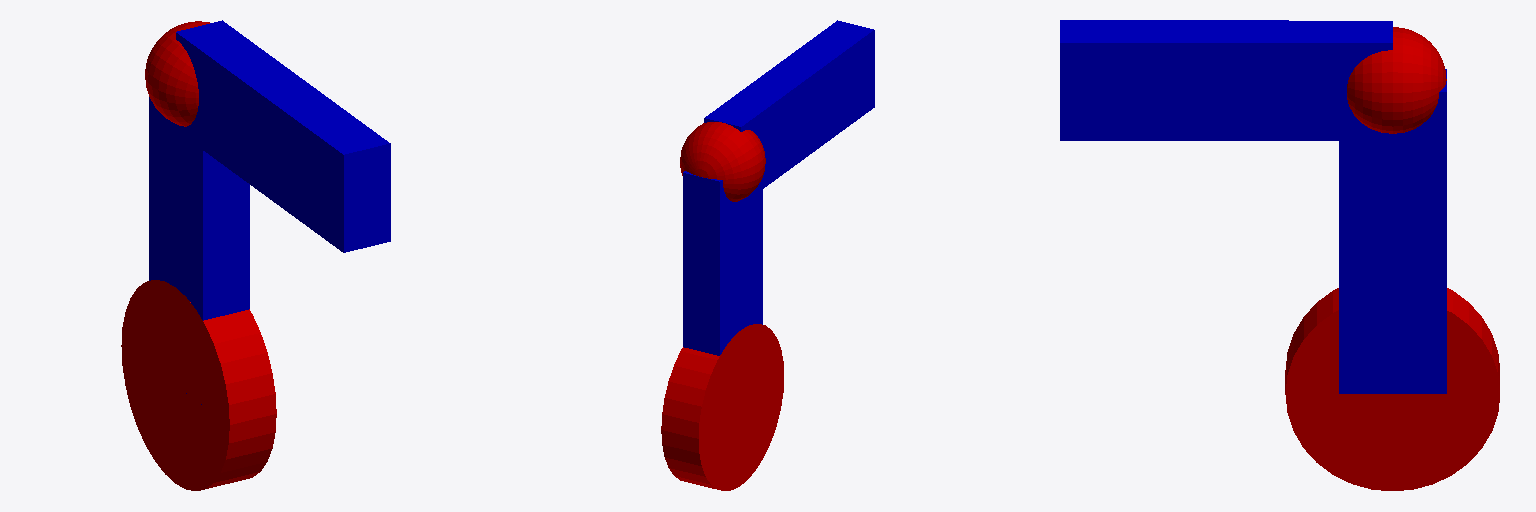
robot.urdf — TwoLink6034503327:
<?xml version="1.0"?>
<robot  name="TwoLink6034503327" >
 <material  name="blue" >
  <color  rgba="0 0 0.8 1.0" />
 </material>
 <material  name="red" >
  <color  rgba="0.8 0 0 1.0" />
 </material>
 <link  name="base_link" >
  <visual >
   <origin  xyz="0 0 0"  rpy="0 1.5707 0" />
   <material  name="red" />
   <geometry >
    <cylinder  length="0.05"  radius="0.1" />
   </geometry>
  </visual>
 </link>
 <joint  type="revolute"  name="joint1" >
  <parent  link="base_link" />
  <child  link="link1" />
  <origin  xyz="0 0 0"  rpy="0 0 0" />
  <axis  xyz="1 0 0" />
 </joint>
 <link  name="link1" >
  <inertial >
   <origin  xyz="0 0 0.155"  rpy="0 0 0" />
   <mass  value="1.6275" />
   <inertia  izz="0.013372625"  iyy="0.0006781250000000001"  iyz="0.0"  ixz="0.0"  ixx="0.013372625"  ixy="0.0" />
  </inertial>
  <visual >
   <origin  xyz="0 0 0.155"  rpy="0 0 0" />
   <material  name="blue" />
   <geometry >
    <box  size="0.05 0.1 0.31" />
   </geometry>
  </visual>
 </link>
 <joint  type="fixed"  name="joint-joint-1" >
  <parent  link="link1" />
  <child  link="joint-link-1" />
  <origin  xyz="0 0 0.31"  rpy="1.5707 0 0" />
  <axis  xyz="1 0 0" />
 </joint>
 <link  name="joint-link-1" >
  <inertial >
   <origin  xyz="0 0 0"  rpy="0 0 0" />
   <mass  value="0.6" />
   <inertia  izz="0"  iyy="0"  iyz="0"  ixz="0"  ixx="0"  ixy="0" />
  </inertial>
  <visual >
   <origin  xyz="0 0 0"  rpy="0 0 0" />
   <material  name="red" />
   <geometry >
    <sphere  radius="0.05" />
   </geometry>
  </visual>
 </link>
 <joint  type="revolute"  name="joint2" >
  <parent  link="link1" />
  <child  link="link2" />
  <origin  xyz="0 0 0.31"  rpy="1.5707 0 0" />
  <axis  xyz="1 0 0" />
 </joint>
 <link  name="link2" >
  <inertial >
   <origin  xyz="0 0 0.155"  rpy="0 0 0" />
   <mass  value="1.6275" />
   <inertia  izz="0.013372625"  iyy="0.0006781250000000001"  iyz="0.0"  ixz="0.0"  ixx="0.013372625"  ixy="0.0" />
  </inertial>
  <visual >
   <origin  xyz="0 0 0.155"  rpy="0 0 0" />
   <material  name="blue" />
   <geometry >
    <box  size="0.05 0.1 0.31" />
   </geometry>
  </visual>
 </link>
 <joint  type="fixed"  name="eef_joint" >
  <parent  link="link2" />
  <child  link="eef" />
  <origin  xyz="0 0 0.31"  rpy="0 0 0" />
 </joint>
 <link  name="eef" >
  <inertial >
   <origin  xyz="0 0 0"  rpy="0 0 0" />
   <mass  value="1" />
   <inertia  izz="0"  iyy="0"  iyz="0"  ixz="0"  ixx="0"  ixy="0" />
  </inertial>
 </link>
 <transmission  name="motor1" >
  <type  xmltext="SimpleTransmission" >
   SimpleTransmission
  </type>
  <actuator  name="motor1" >
   <mechanicalreduction  xmltext="1" >
    1
   </mechanicalreduction>
  </actuator>
  <joint  name="joint1" />
 </transmission>
 <transmission  name="motor2" >
  <type  xmltext="SimpleTransmission" >
   SimpleTransmission
  </type>
  <actuator  name="motor2" >
   <mechanicalreduction  xmltext="1" >
    1
   </mechanicalreduction>
  </actuator>
  <joint  name="joint2" />
 </transmission>
</robot>

<!-- {'carti': array([-0.1 ,  0.14,  0.85]), 'cartd': array([-0.1 ,  0.32,  1.29]), 'tau_mu': 0.1, 'b0': 0.1, 'Km': 0.38, 'k_velocity': 1.06, 'tau_max_m': 1, 'omega_max_m': 5000, 'gear_ratio': 10, 'Kp': 35, 'Kd': 10, 'm_m': 0.6, 'l1': 0.31, 'l2': 0.31}-->

--- Facts derived from the render (not from the file) ---
3 views of the same robot in one strip: view 1: azimuth 30°, elevation 25°; view 2: azimuth 150°, elevation 25°; view 3: azimuth 270°, elevation 25° (orthographic).
Robot: TwoLink6034503327 — 5 links, 4 joints (2 revolute, 2 fixed); root link base_link; default pose: all joints at 0.
Links seen in each view (by area): view 1: link2, base_link, link1, joint-link-1; view 2: base_link, link2, link1, joint-link-1; view 3: link2, link1, base_link, joint-link-1.
Boxes of the visible links, <box> form: link2: <box>176,20,390,252</box>; base_link: <box>121,280,276,490</box>; link1: <box>149,97,249,404</box>; joint-link-1: <box>145,21,209,126</box>; base_link: <box>661,324,783,490</box>; link2: <box>704,20,874,201</box>; link1: <box>683,171,762,355</box>; joint-link-1: <box>680,122,765,201</box>; link2: <box>1060,20,1392,140</box>; link1: <box>1339,69,1446,393</box>; base_link: <box>1285,288,1499,490</box>; joint-link-1: <box>1347,27,1446,133</box>.
Size in the robot's own frame: 0.1 by 0.41 by 0.46 metres.
Geometry: primitives only (box / cylinder / sphere), no mesh files.
